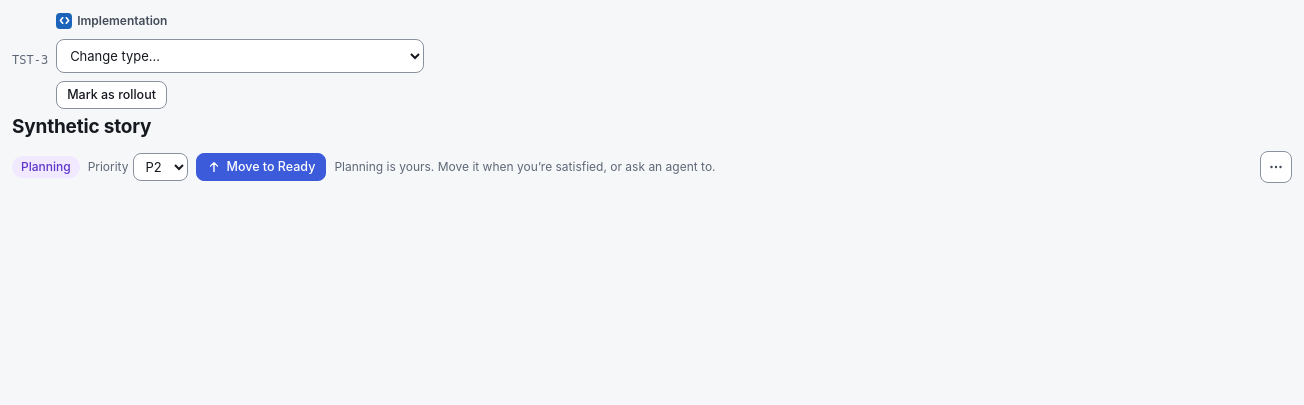
Test: a refused Move to Ready (decision 65) › lists exactly what is missing and offers a planner and "none"
The width and height of the screenshot is (1304, 405).
Click the button "Move to Ready" at (261, 167), box [196,153,326,181]
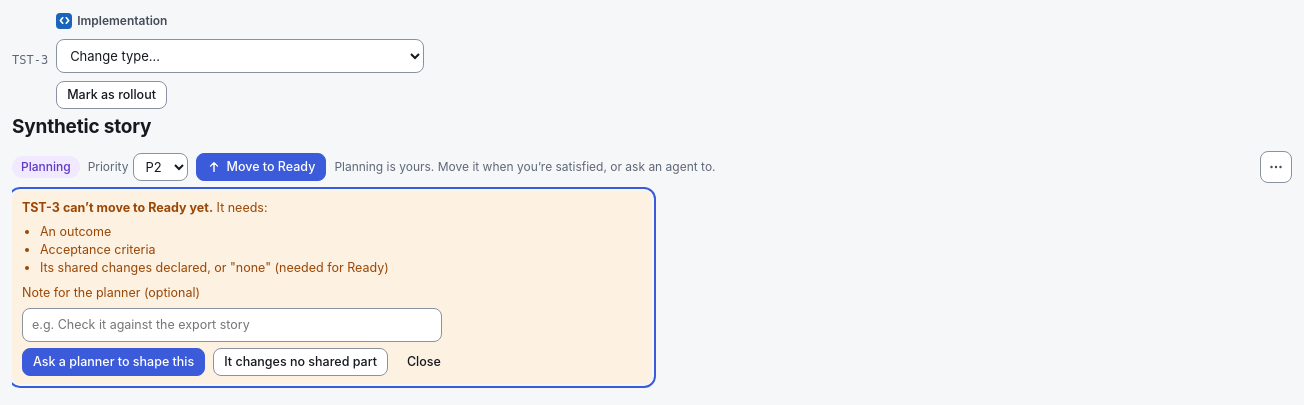
Result: the number of list items is 3 at [40,224,111,239]; [40,242,156,257]; [40,260,389,275]
Result: the list item "An outcome" is shown at [40,224,111,239]
Result: the list item "Acceptance criteria" is shown at [40,242,156,257]
